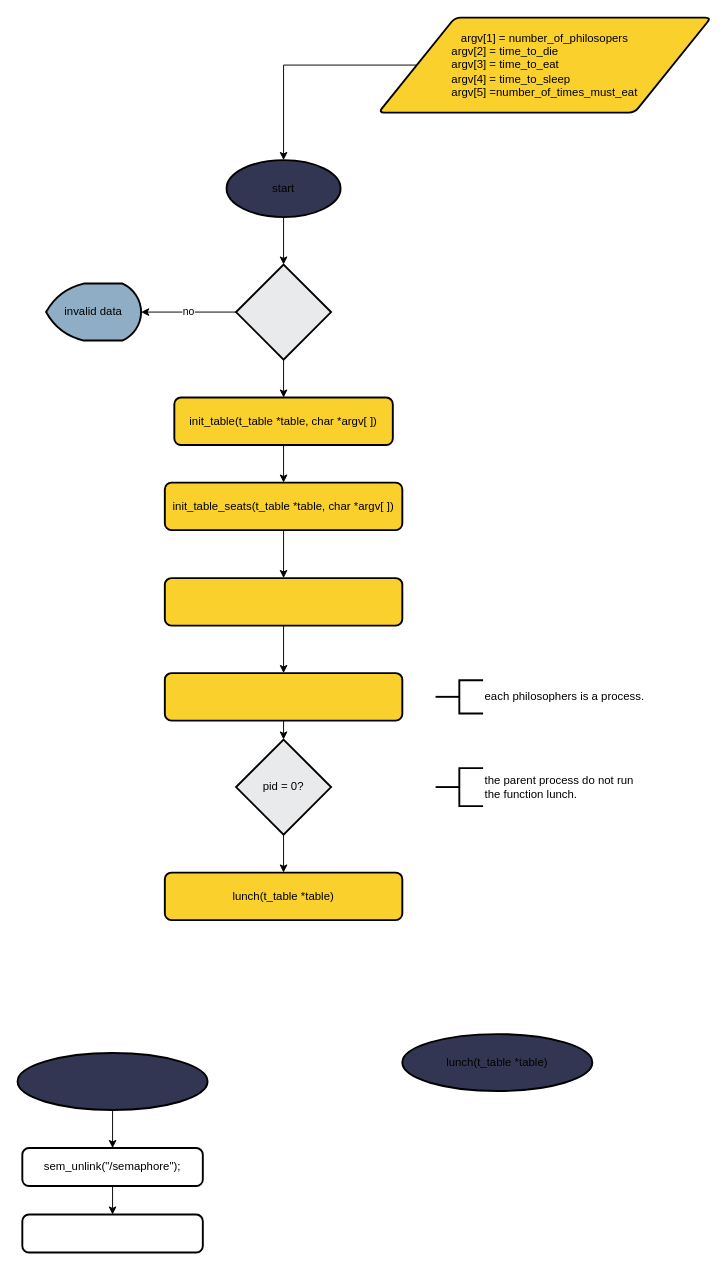
Some shapes in this 728 by 1269 pixel diagram are drawn without their labels. Here are the shapes that lost their labels. From the top down, the centre of each, then its label:
pixel 283 311: arguments OK?
pixel 283 601: init_table_forks(t_table *table) create semaphores * num of philosophres
pixel 283 696: create_philo(t_table *table)
pixel 112 1081: init_table_forks(t_table *table)
pixel 112 1233: table->smp = sem_open
